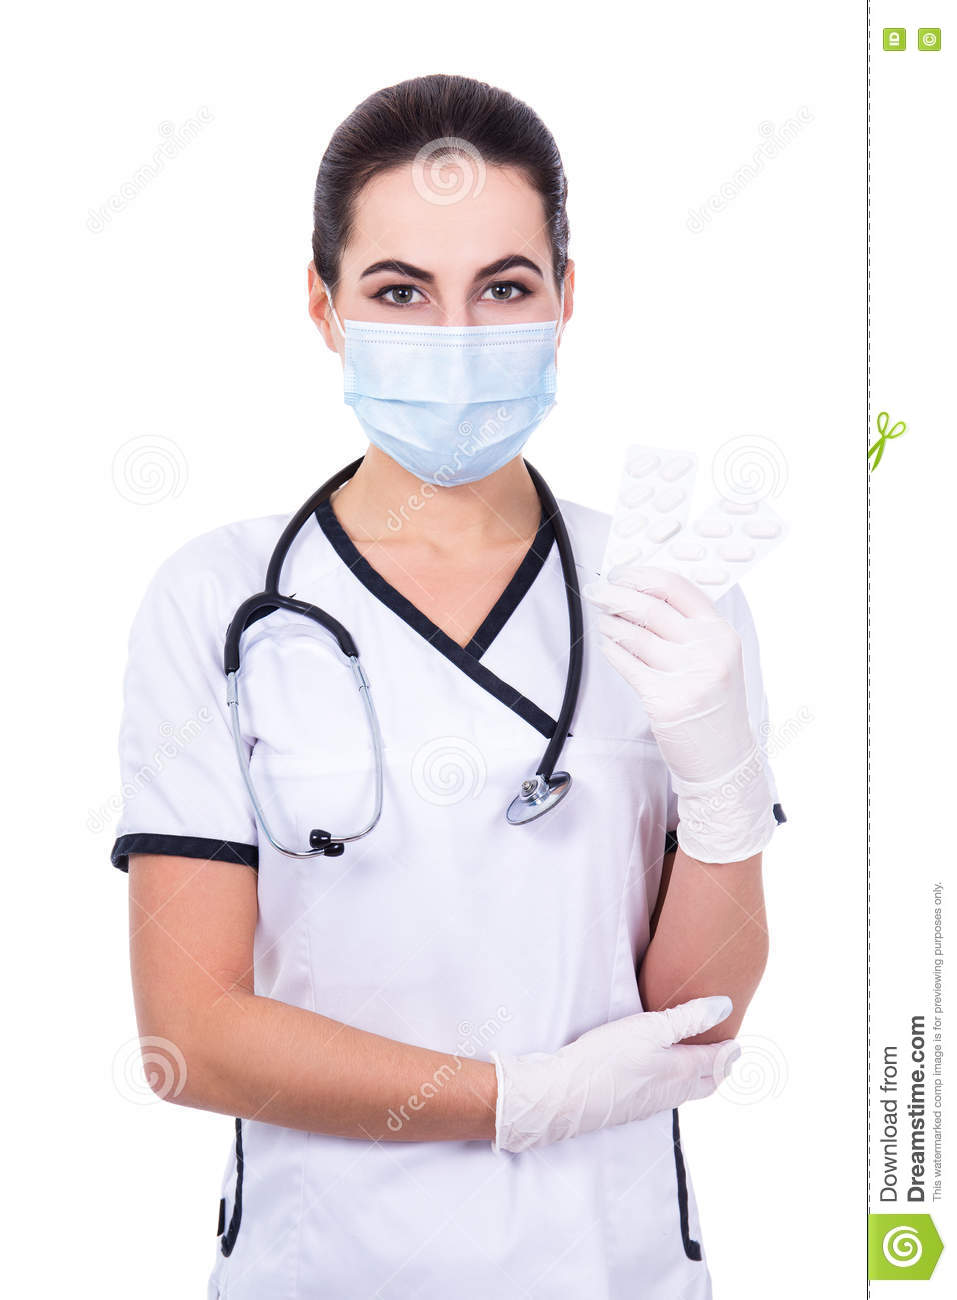mask: (345, 320, 557, 491)
